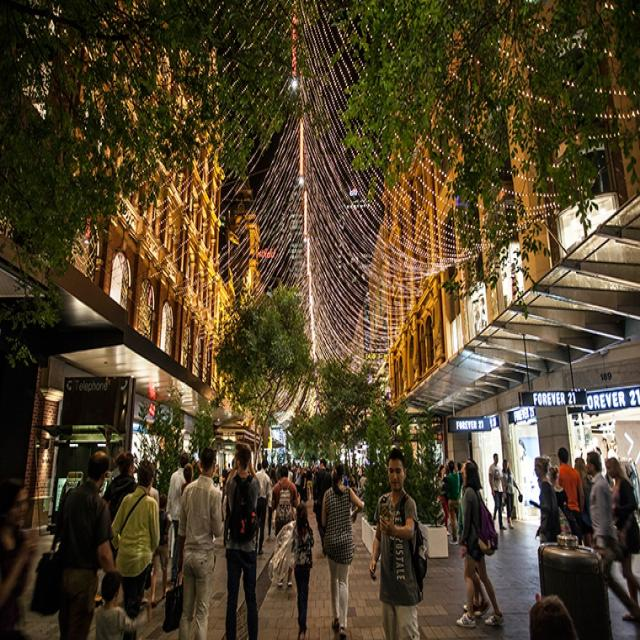body: (26, 449, 121, 639), (160, 442, 226, 638), (367, 445, 430, 639), (108, 456, 162, 638), (585, 449, 640, 624), (219, 439, 262, 639), (455, 458, 505, 630), (320, 460, 365, 639), (0, 475, 41, 631), (603, 454, 639, 625), (254, 456, 321, 544), (458, 456, 493, 618), (100, 450, 139, 564), (92, 568, 152, 640), (289, 501, 316, 639), (270, 463, 299, 589), (190, 452, 233, 524), (166, 450, 190, 578), (149, 490, 174, 610), (532, 454, 564, 546), (558, 446, 586, 536), (248, 456, 273, 556), (327, 460, 367, 515), (574, 454, 596, 549), (312, 458, 332, 558), (443, 458, 465, 545), (486, 451, 508, 532), (500, 457, 524, 531), (546, 464, 572, 530), (436, 463, 452, 537), (451, 459, 469, 487), (180, 462, 194, 496), (146, 482, 160, 510)
